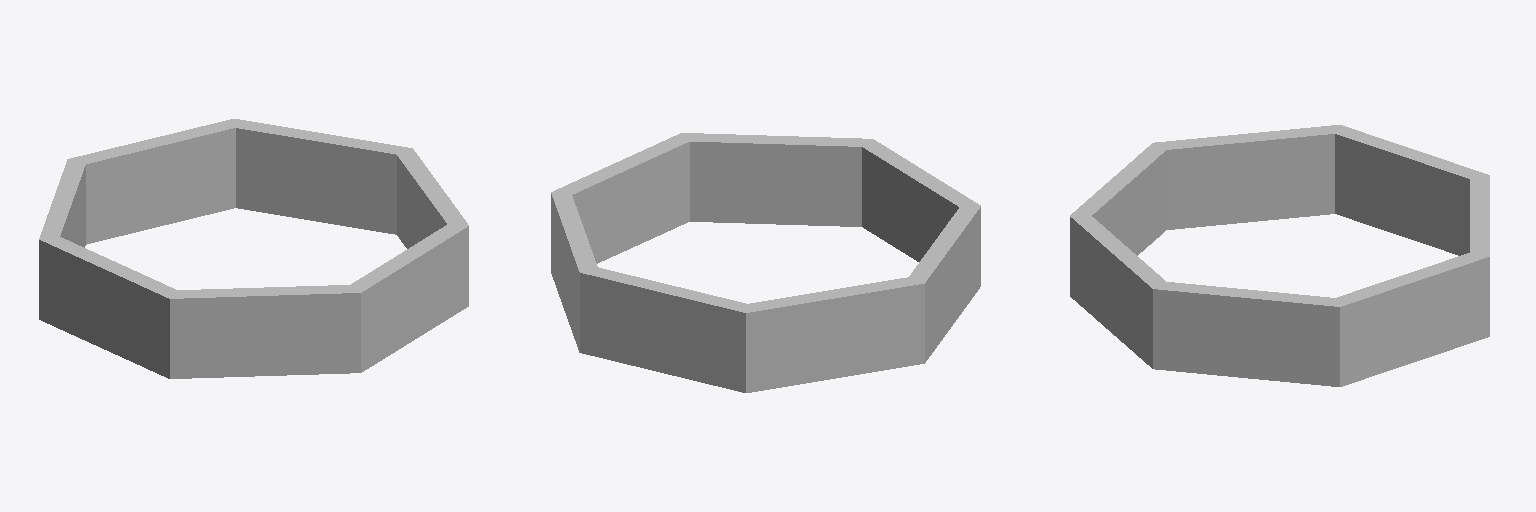
File: gate9.obj
3 renders of one model, left to right at view 1: azimuth 30°, elevation 25°; view 2: azimuth 150°, elevation 25°; view 3: azimuth 270°, elevation 25°, orthographic.
Visible parts, largest first — view 1: Cylinder; view 2: Cylinder; view 3: Cylinder.
Boxes of the visible parts, <box> form: Cylinder: <box>39,119,468,378</box>; Cylinder: <box>551,133,980,392</box>; Cylinder: <box>1070,125,1489,386</box>.
Bounding box in the file's own units: 1.95 × 0.4 × 1.9.